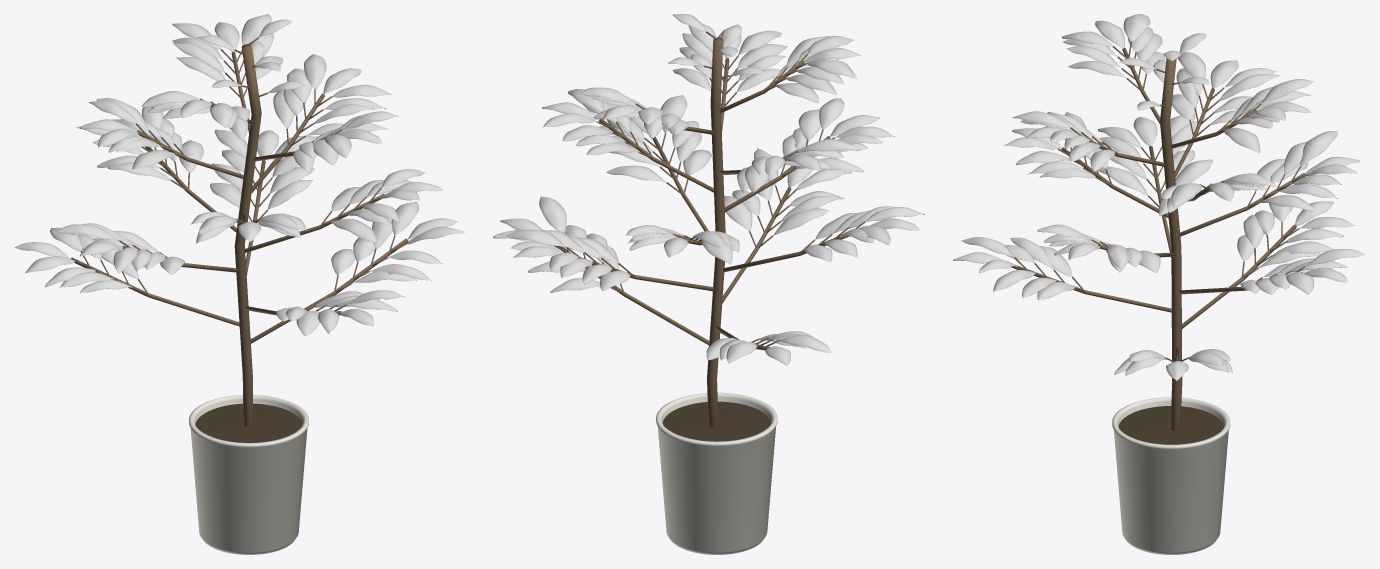
File: plant-ficus-detailed.glb
The picture shows the model from 3 angles, left to right: view 1: azimuth 30°, elevation 25°; view 2: azimuth 150°, elevation 25°; view 3: azimuth 270°, elevation 25°; orthographic projection. The views are drawn at different scales.
Visible parts, largest first — view 1: Rounded ceramic planter, Gently bent woody trunk, Recessed potting soil, Rising ficus branch.001, Rising ficus branch, Rising ficus branch.005, Curved pointed ficus leaf.071, Curved pointed ficus leaf.040, Curved pointed ficus leaf.091, Curved pointed ficus leaf.024, Curved pointed ficus leaf.038; view 2: Rounded ceramic planter, Gently bent woody trunk, Recessed potting soil, Curved pointed ficus leaf.006, Curved pointed ficus leaf.016, Curved pointed ficus leaf.030, Rising ficus branch.008, Rising ficus branch, Curved pointed ficus leaf.041, Rising ficus branch.002, Curved pointed ficus leaf.017, Curved pointed ficus leaf.084 (+2 smaller); view 3: Rounded ceramic planter, Gently bent woody trunk, Recessed potting soil, Curved pointed ficus leaf.055, Rising ficus branch.001, Rising ficus branch.002, Curved pointed ficus leaf.033, Curved pointed ficus leaf.032, Curved pointed ficus leaf.076, Rising ficus branch.006, Curved pointed ficus leaf.095, Curved pointed ficus leaf.102 (+6 smaller).
Part boxes in pixels (<box>): Rounded ceramic planter: <box>189,394,308,554</box>; Gently bent woody trunk: <box>234,44,261,426</box>; Recessed potting soil: <box>195,403,302,442</box>; Rising ficus branch.001: <box>71,257,239,326</box>; Rising ficus branch: <box>250,238,408,343</box>; Rising ficus branch.005: <box>244,194,384,252</box>; Curved pointed ficus leaf.071: <box>304,54,326,89</box>; Curved pointed ficus leaf.040: <box>331,218,376,242</box>; Curved pointed ficus leaf.091: <box>172,43,224,72</box>; Curved pointed ficus leaf.024: <box>268,180,312,209</box>; Curved pointed ficus leaf.038: <box>54,224,119,241</box>; Rounded ceramic planter: <box>656,392,777,554</box>; Gently bent woody trunk: <box>707,37,725,427</box>; Recessed potting soil: <box>662,401,770,441</box>; Curved pointed ficus leaf.006: <box>539,196,566,232</box>; Curved pointed ficus leaf.016: <box>773,208,828,235</box>; Curved pointed ficus leaf.030: <box>505,229,566,247</box>; Rising ficus branch.008: <box>599,119,713,192</box>; Rising ficus branch: <box>557,246,709,345</box>; Curved pointed ficus leaf.041: <box>606,165,666,182</box>; Rising ficus branch.002: <box>722,187,791,303</box>; Curved pointed ficus leaf.017: <box>724,196,752,230</box>; Curved pointed ficus leaf.084: <box>738,44,787,67</box>; Rounded ceramic planter: <box>1112,397,1230,554</box>; Gently bent woody trunk: <box>1160,58,1182,430</box>; Recessed potting soil: <box>1118,406,1223,444</box>; Curved pointed ficus leaf.055: <box>1300,131,1337,166</box>; Rising ficus branch.001: <box>1182,224,1296,328</box>; Rising ficus branch.002: <box>1011,264,1172,312</box>; Curved pointed ficus leaf.033: <box>1098,166,1148,195</box>; Curved pointed ficus leaf.032: <box>1175,159,1212,185</box>; Curved pointed ficus leaf.076: <box>1219,74,1279,100</box>; Rising ficus branch.006: <box>1180,172,1305,236</box>; Curved pointed ficus leaf.095: <box>1261,79,1313,103</box>; Curved pointed ficus leaf.102: <box>1123,14,1150,41</box>.
Size of the model in its own units: 1.07 by 1.3 by 0.9754.
